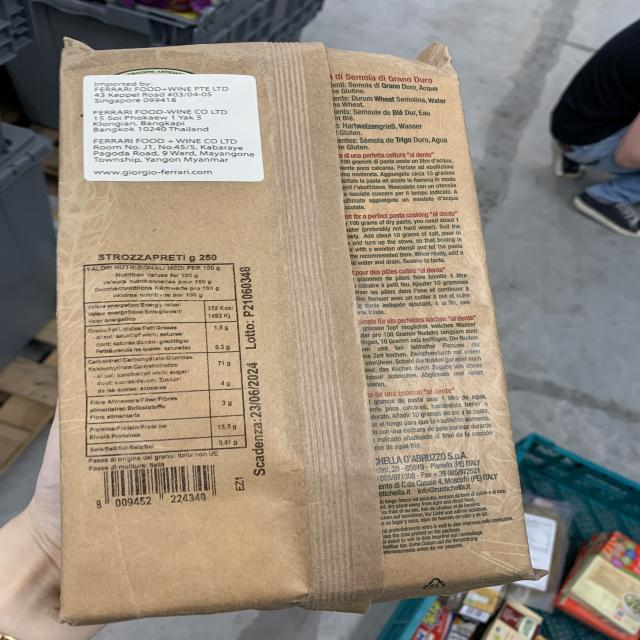object_name: (62, 49, 520, 591)
